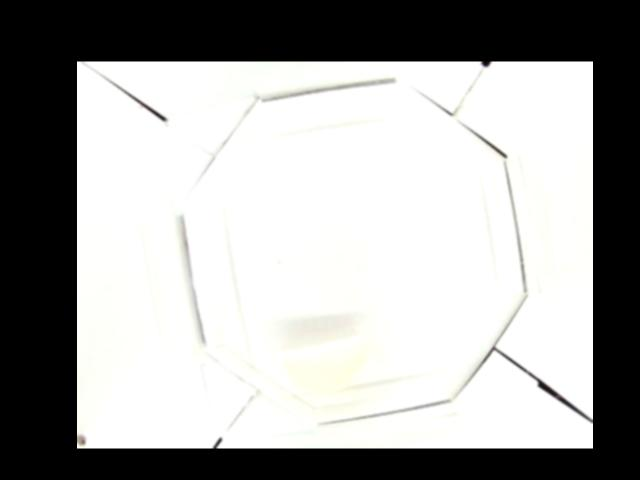Mooli: (275, 330, 365, 391)
